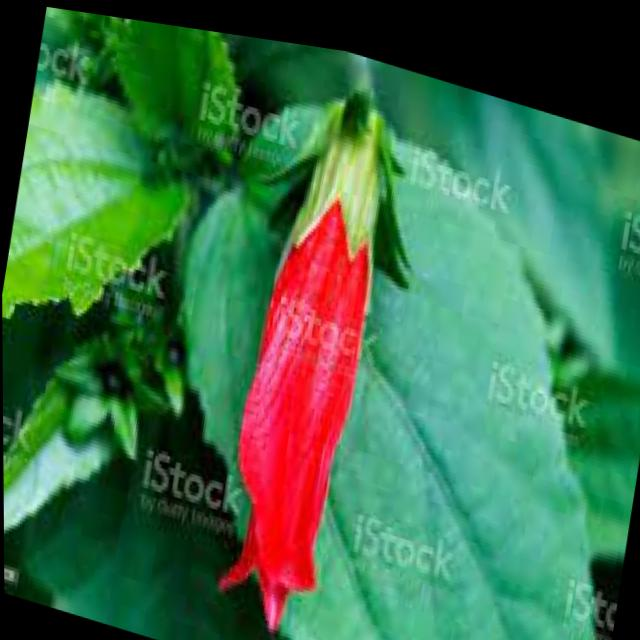Flower: (201, 57, 398, 640)
